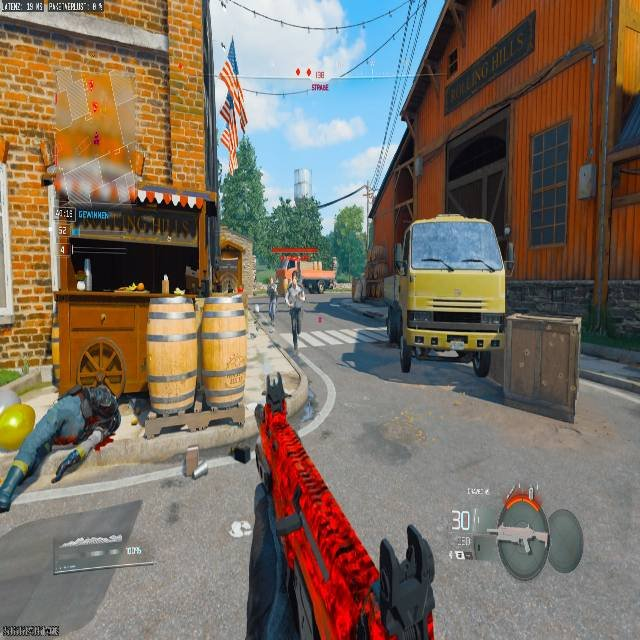head: (78, 338, 127, 401), (89, 385, 118, 418), (284, 258, 298, 276)
player: (0, 337, 125, 520), (265, 257, 316, 346), (284, 260, 306, 353), (283, 255, 302, 301), (266, 276, 279, 322)
